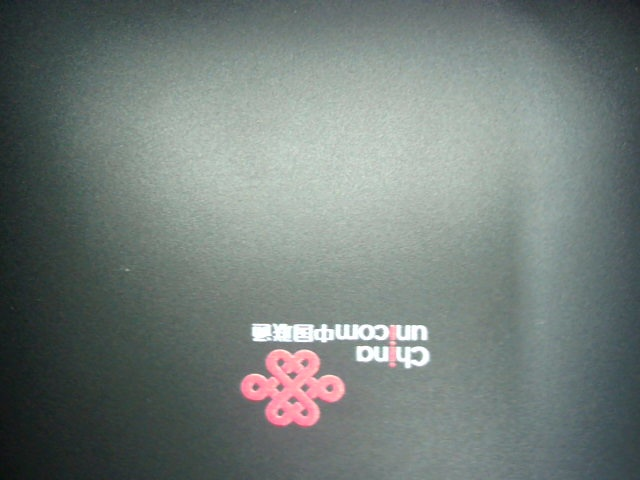AC_ChinaUnicom: (231, 311, 439, 433)
